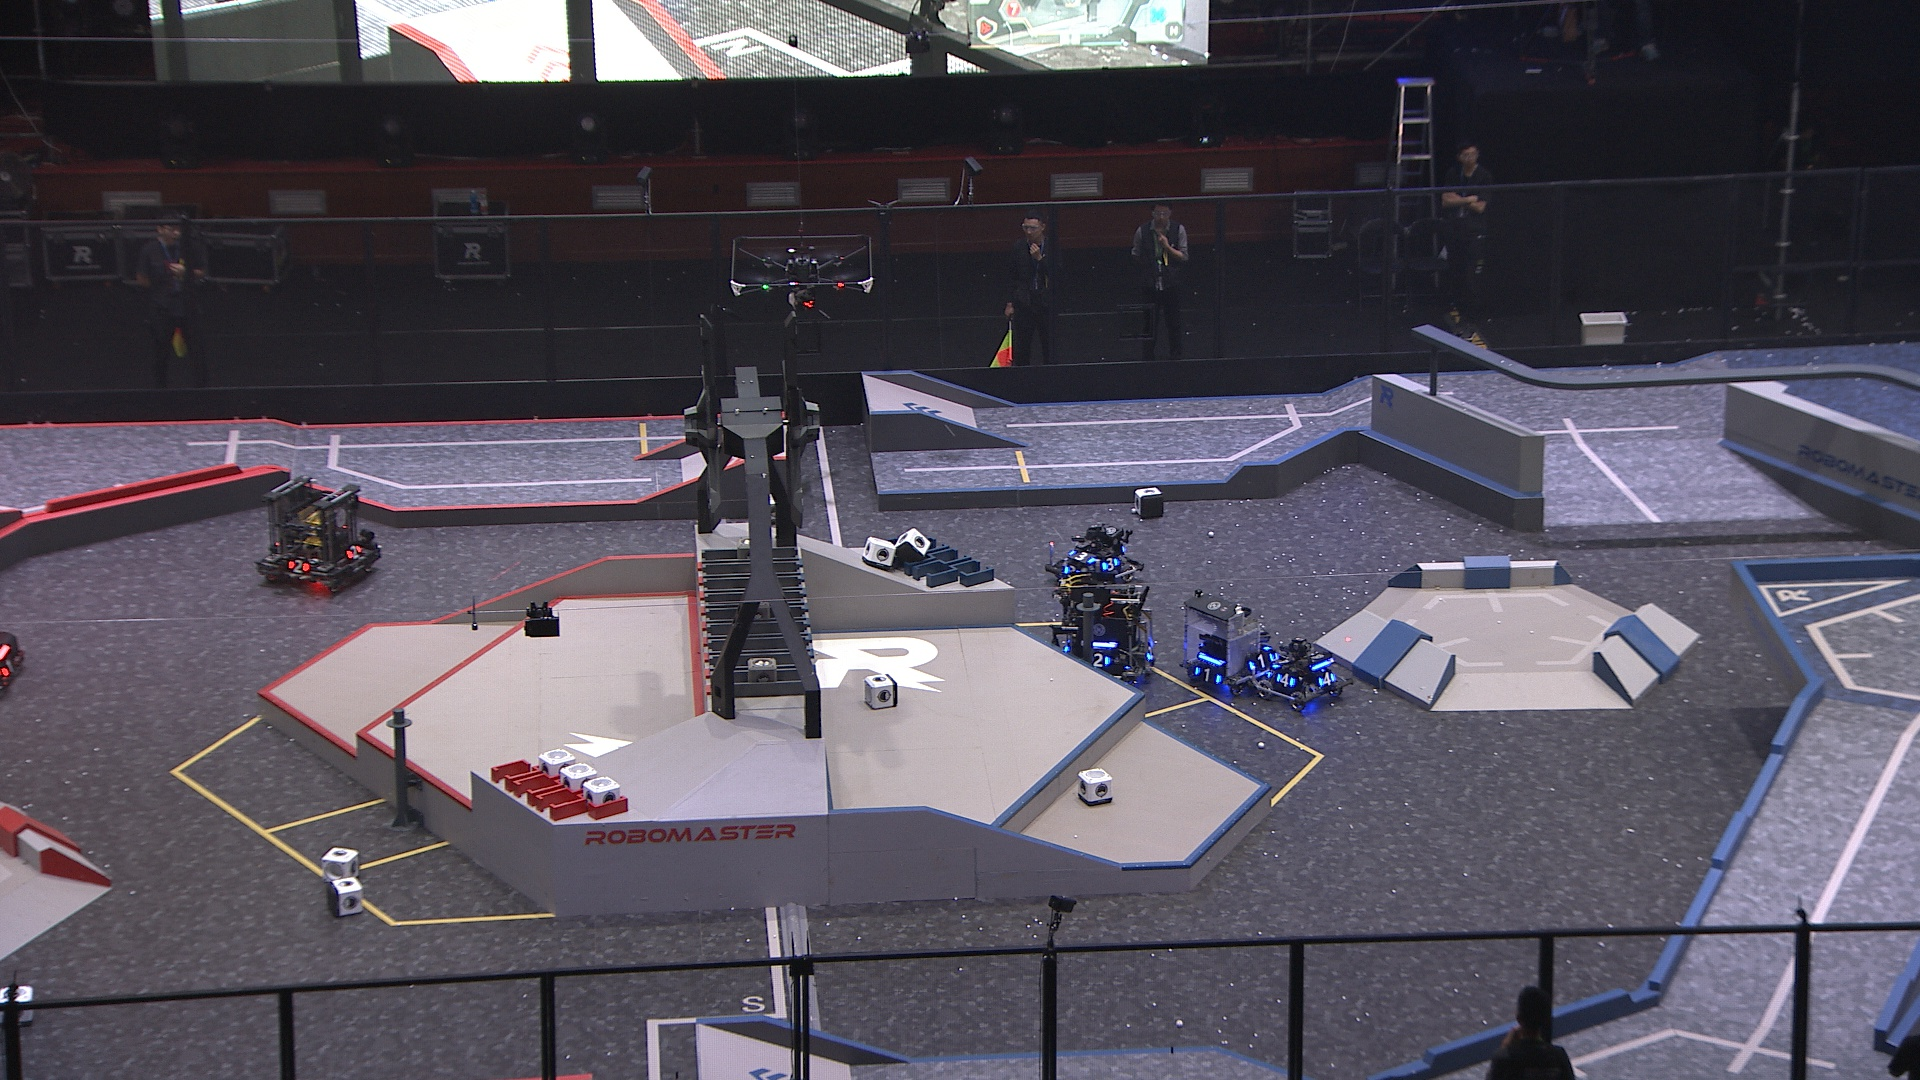armor: (1195, 665, 1220, 687), (1250, 651, 1275, 674), (1275, 671, 1298, 692), (1068, 549, 1097, 564), (284, 559, 313, 575), (3, 655, 20, 679), (1091, 651, 1114, 669), (348, 541, 363, 566), (1317, 671, 1338, 688), (1060, 564, 1083, 578), (1102, 556, 1121, 572), (1276, 654, 1292, 669), (1145, 640, 1155, 661)
car: (257, 473, 382, 591), (1051, 574, 1160, 690), (1178, 591, 1278, 699), (1245, 632, 1357, 713), (1044, 520, 1147, 597)
